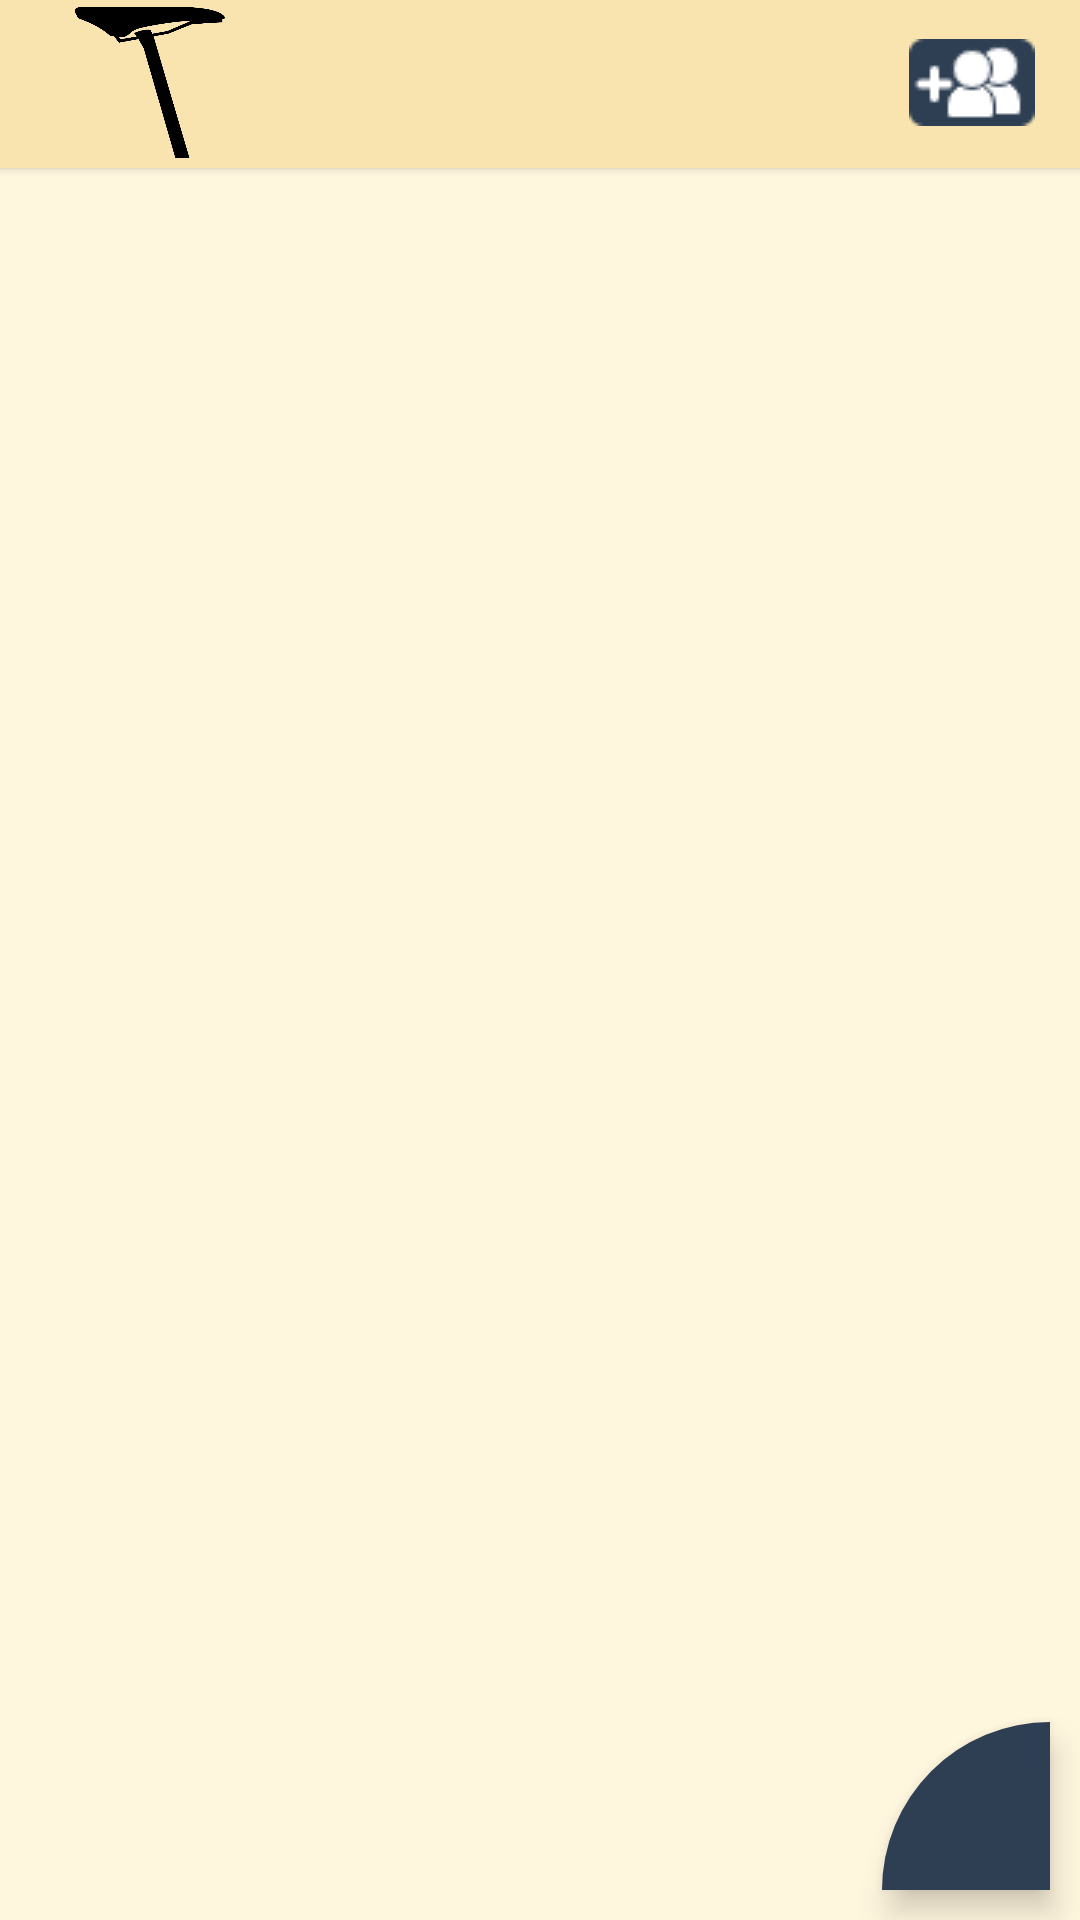

Screen size 1080 x 1920. Icon name, then its center in pixels as (x,y):
create group: (972,82)
